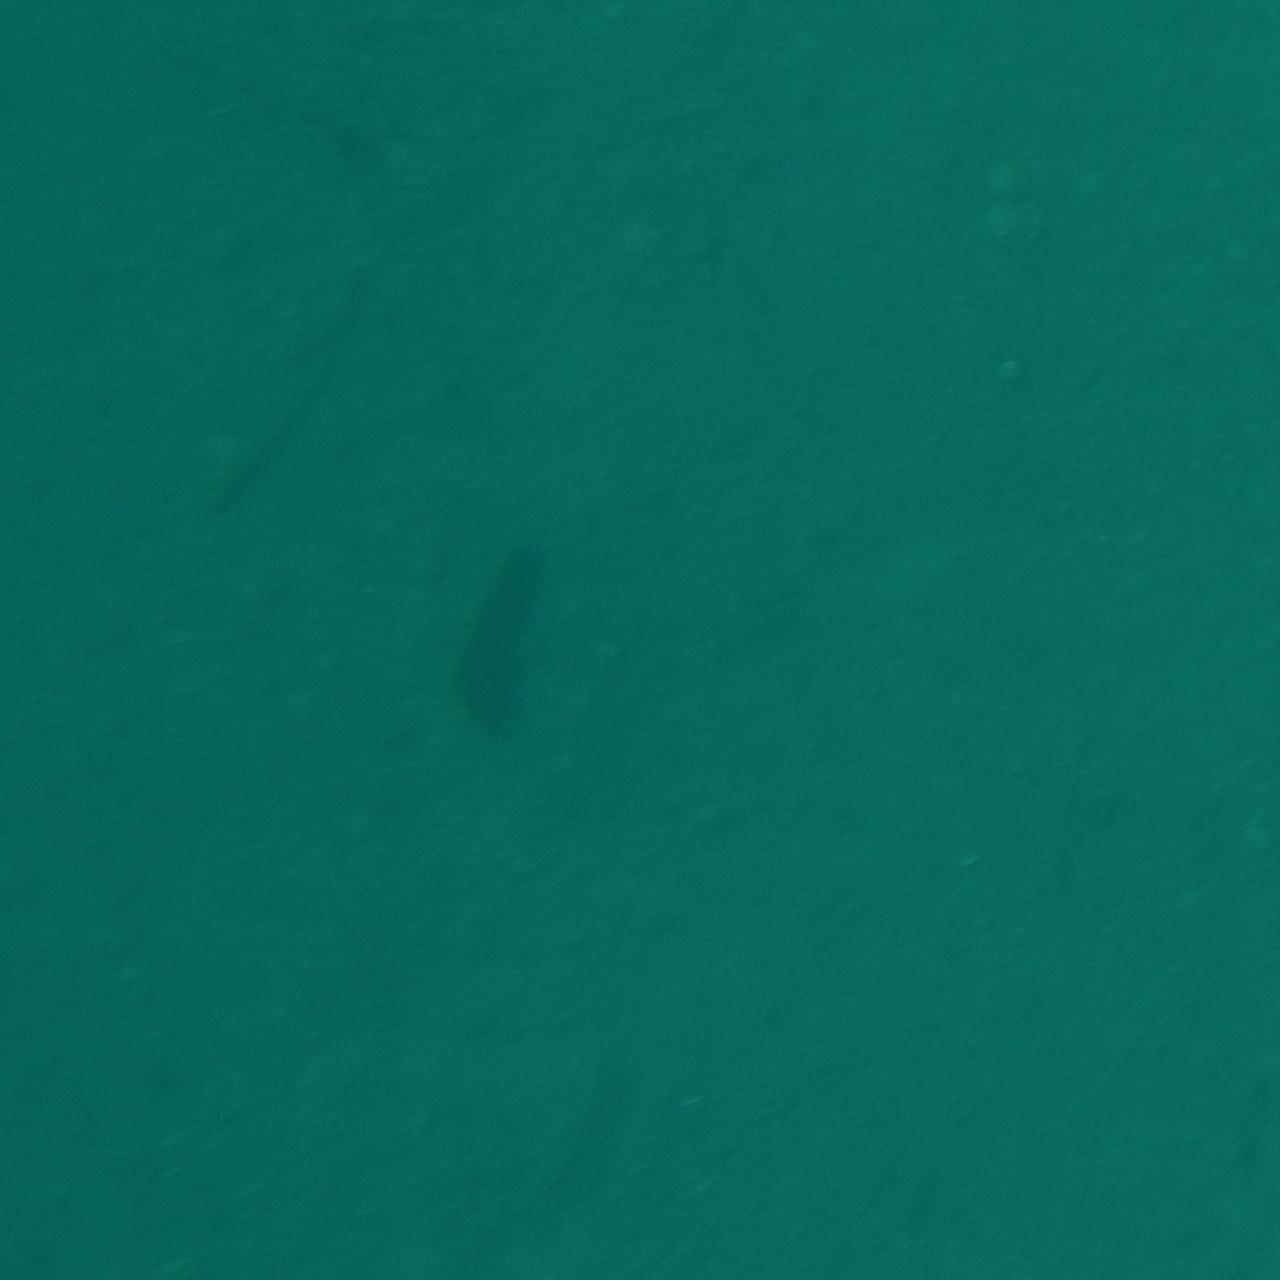Holothuria tubulosa: (428, 532, 583, 748)
